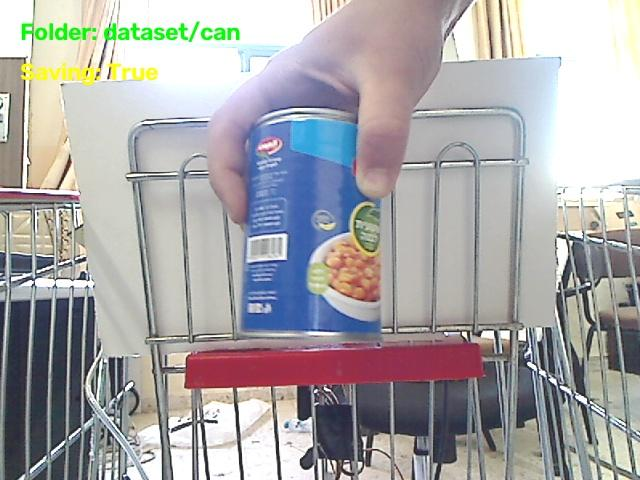can: (241, 108, 380, 341)
